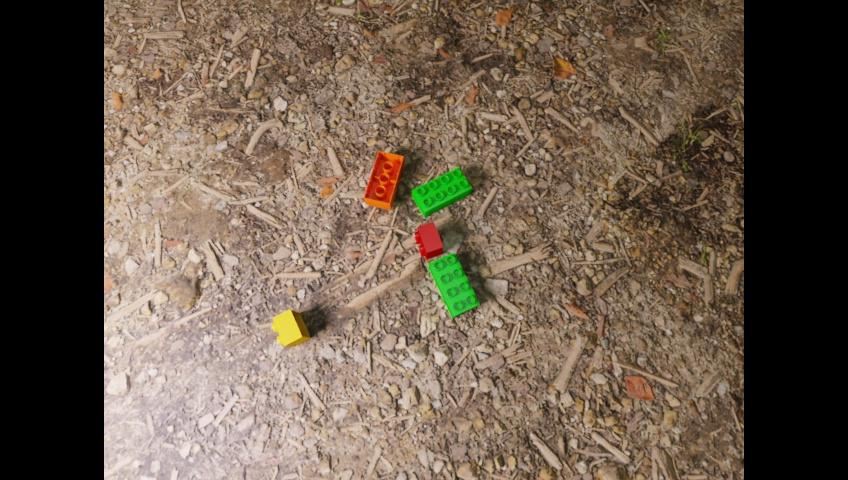2x2_red: (414, 221, 442, 259)
2x2_yellow: (271, 309, 309, 346)
4x2_green: (429, 252, 478, 317), (412, 166, 471, 217)
4x2_orange: (363, 150, 403, 209)
